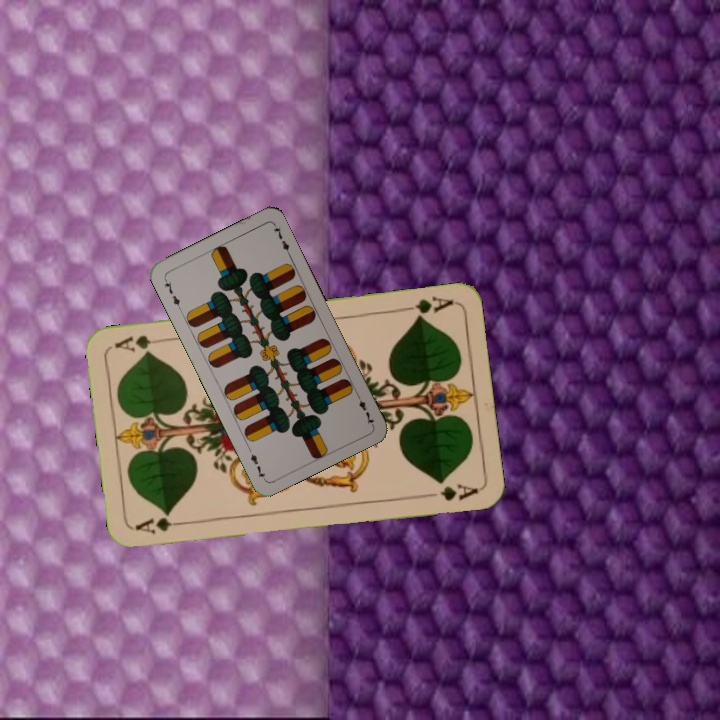E7: (353, 389, 376, 427), (160, 275, 183, 312)
GA: (397, 292, 456, 322), (131, 513, 191, 537)
